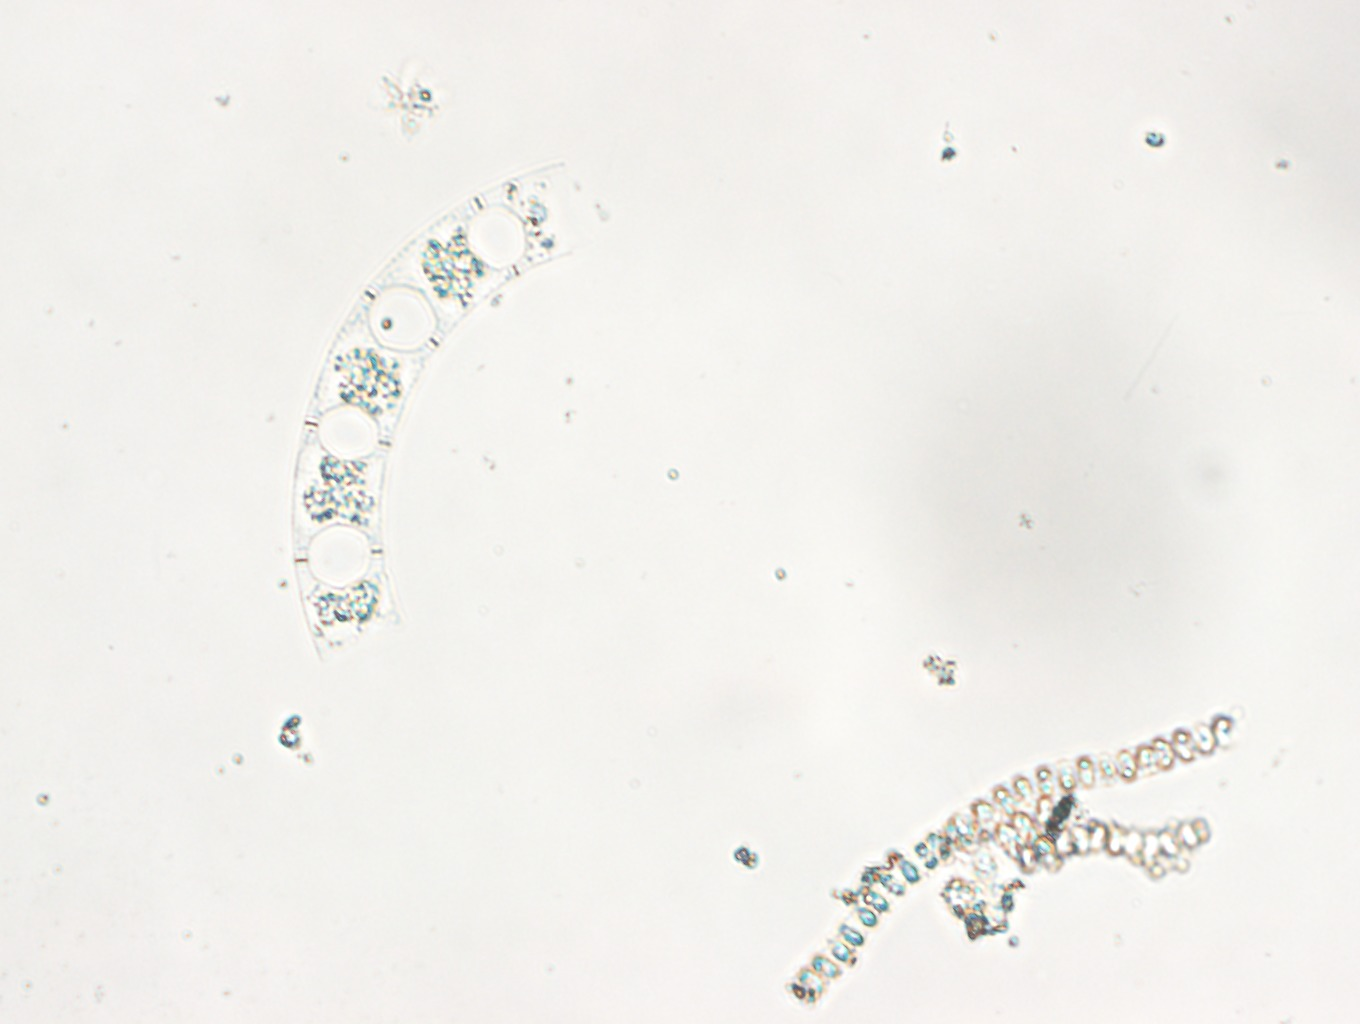eucampia: (283, 150, 615, 673)
